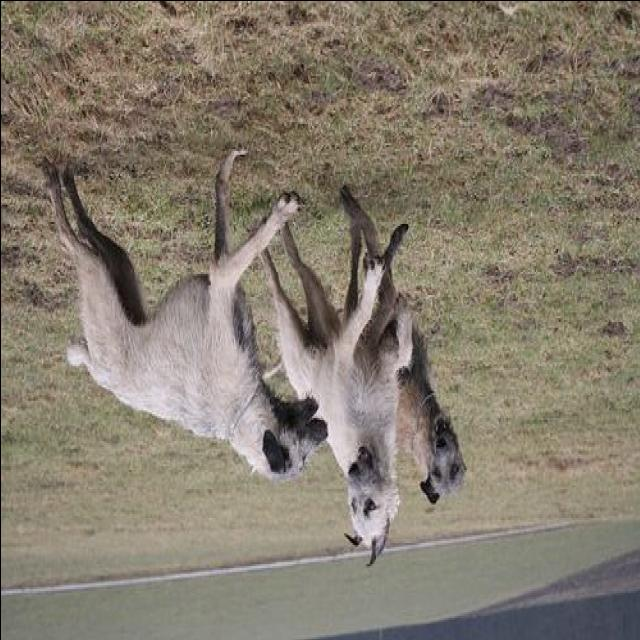irish_wolfhound: (41, 146, 325, 481), (252, 202, 417, 573), (392, 326, 464, 504)
